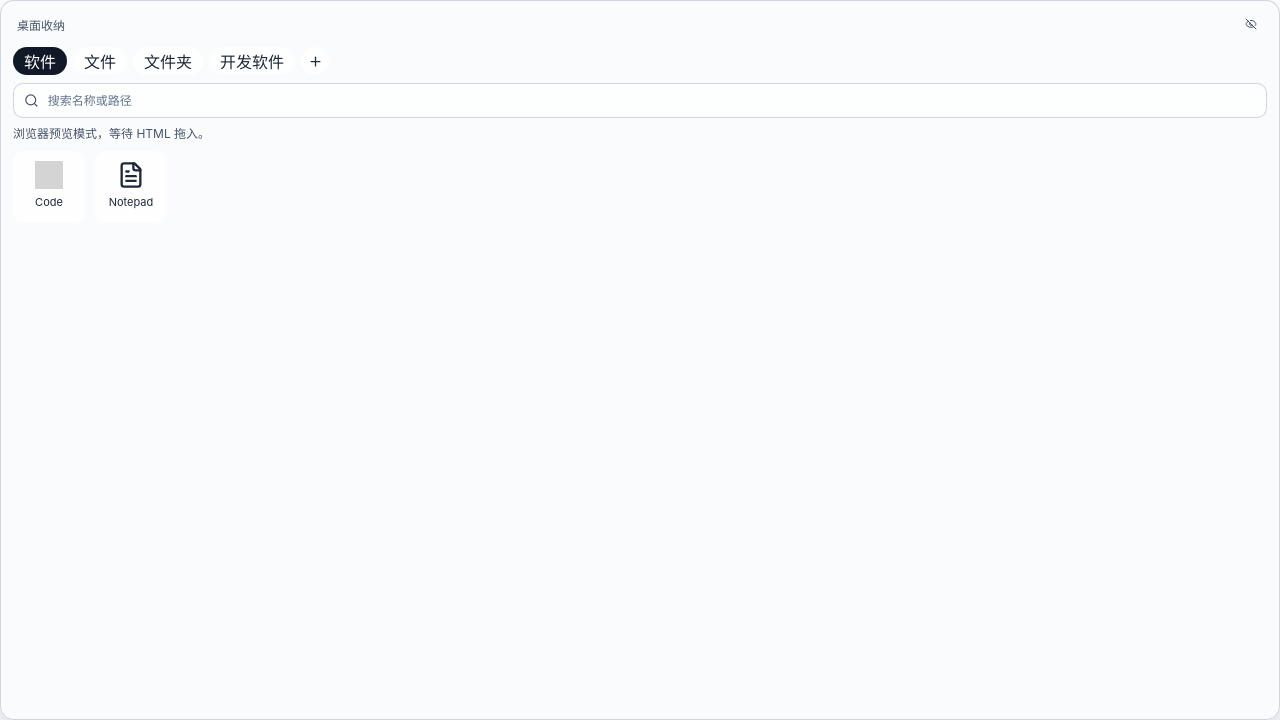
Test: App › 右键软件图标时可以换到另一个软件分页
Right-click the button "Code" at x=49, y=187, box [13,151,85,223]
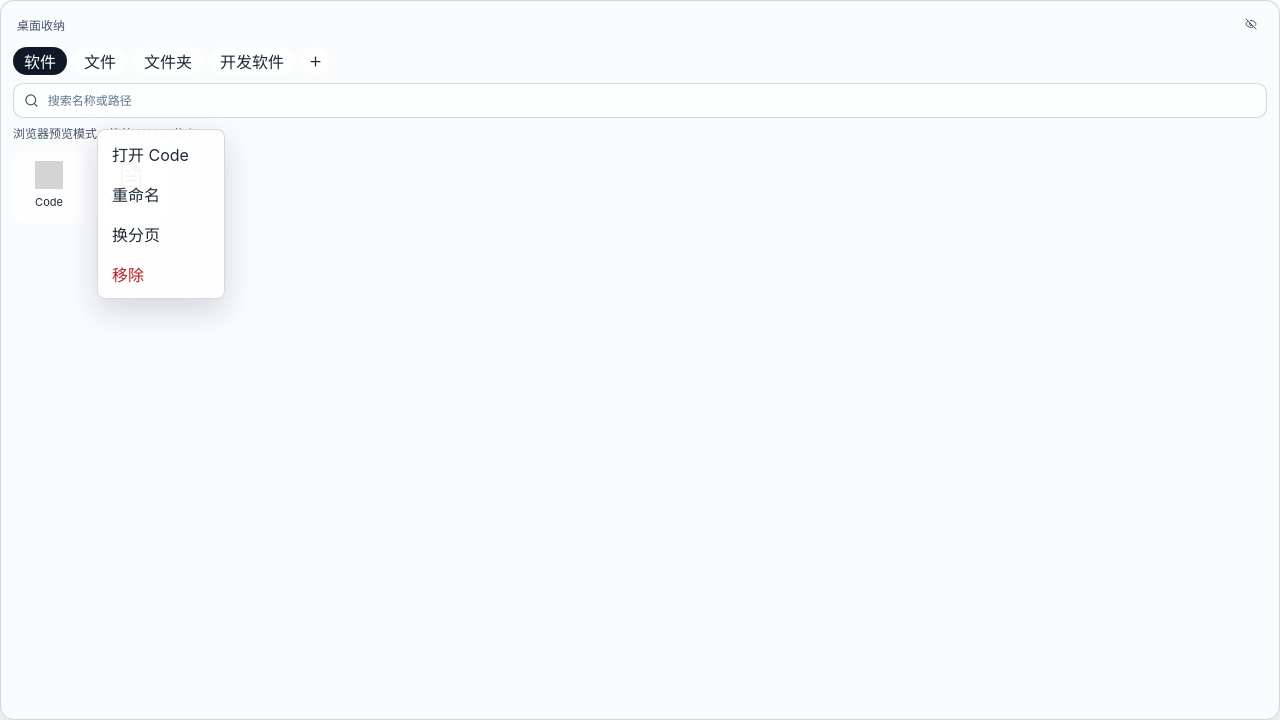
Click the menu item "换分页" at x=161, y=234, box [103,215,219,253]
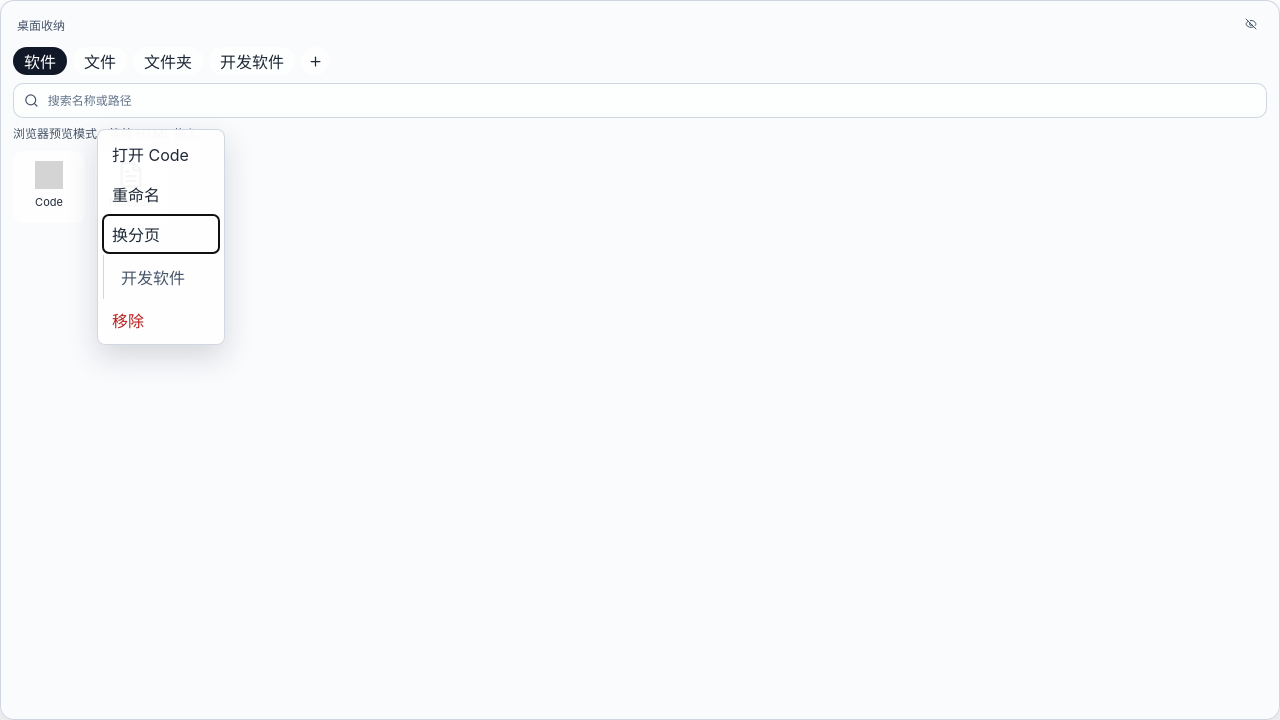
Click the menu item "开发软件" at x=166, y=277, box [112,258,219,296]
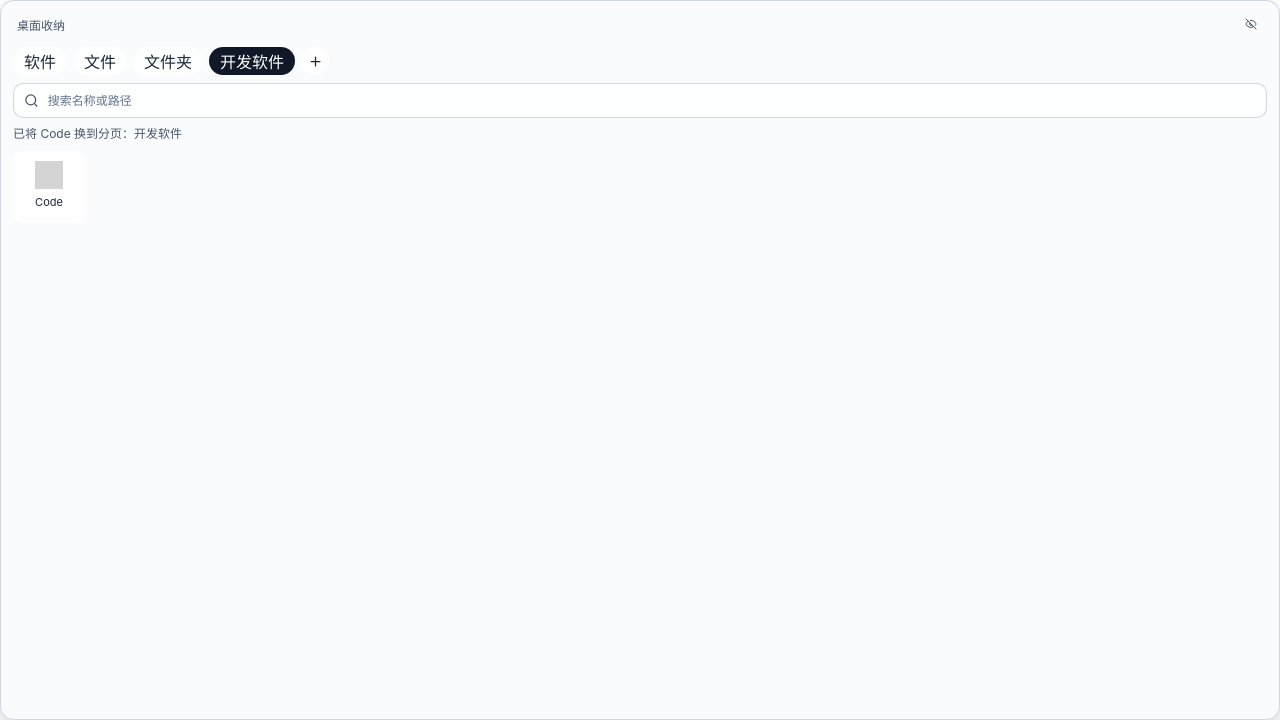
Expected: the button "Code" is shown, [13,151,85,223]
Result: the button "开发软件" has class "active" at [209,47,295,75]
